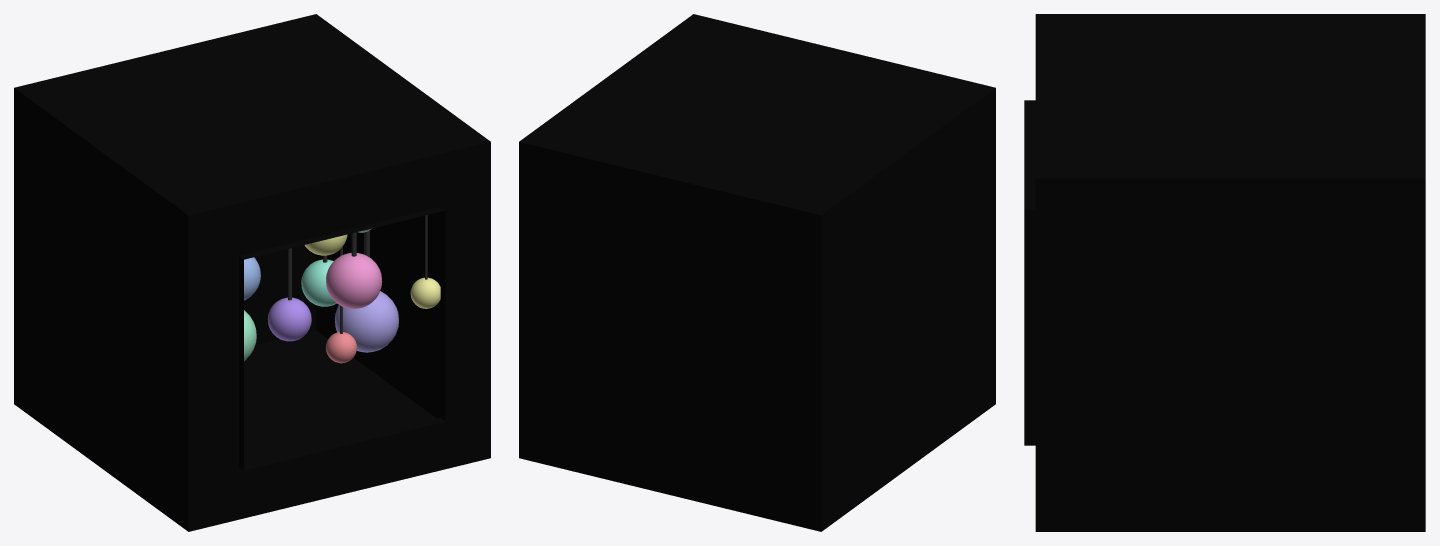
3 renders of one model, left to right at view 1: azimuth 30°, elevation 25°; view 2: azimuth 150°, elevation 25°; view 3: azimuth 270°, elevation 25°, orthographic. The views are drawn at different scales.
Visible parts, largest first — view 1: Cube, Sphere.014, Sphere.019, Sphere.003, Sphere.015, Sphere.018, Sphere.017, Sphere.012; view 2: Cube; view 3: Cube.
Part boxes in pixels (<box>): Cube: <box>14,14,490,531</box>; Sphere.014: <box>326,253,382,308</box>; Sphere.019: <box>335,291,398,352</box>; Sphere.003: <box>267,297,311,341</box>; Sphere.015: <box>301,259,336,306</box>; Sphere.018: <box>326,332,356,363</box>; Sphere.017: <box>410,277,440,308</box>; Sphere.012: <box>244,257,260,300</box>; Cube: <box>519,14,995,531</box>; Cube: <box>1024,14,1425,531</box>.
Size of the model in its own units: 4 by 4 by 4.12.
